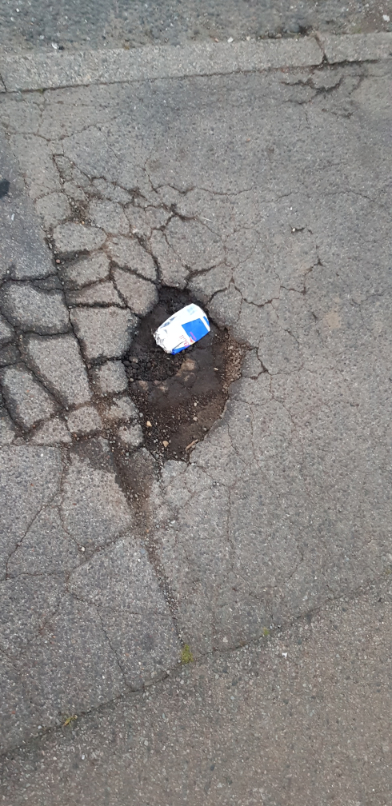pothole: (113, 273, 250, 466)
